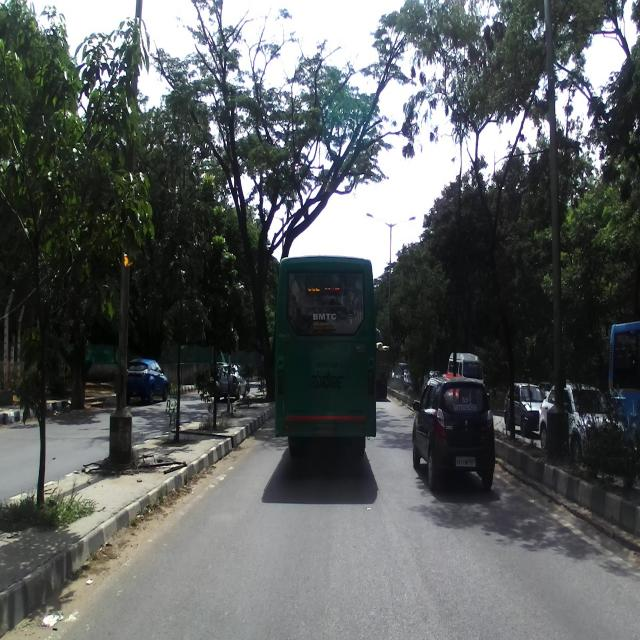Car: (538, 380, 624, 460)
Car_Maruti-Suzuki: (412, 374, 496, 492)
bus: (270, 254, 377, 464)
